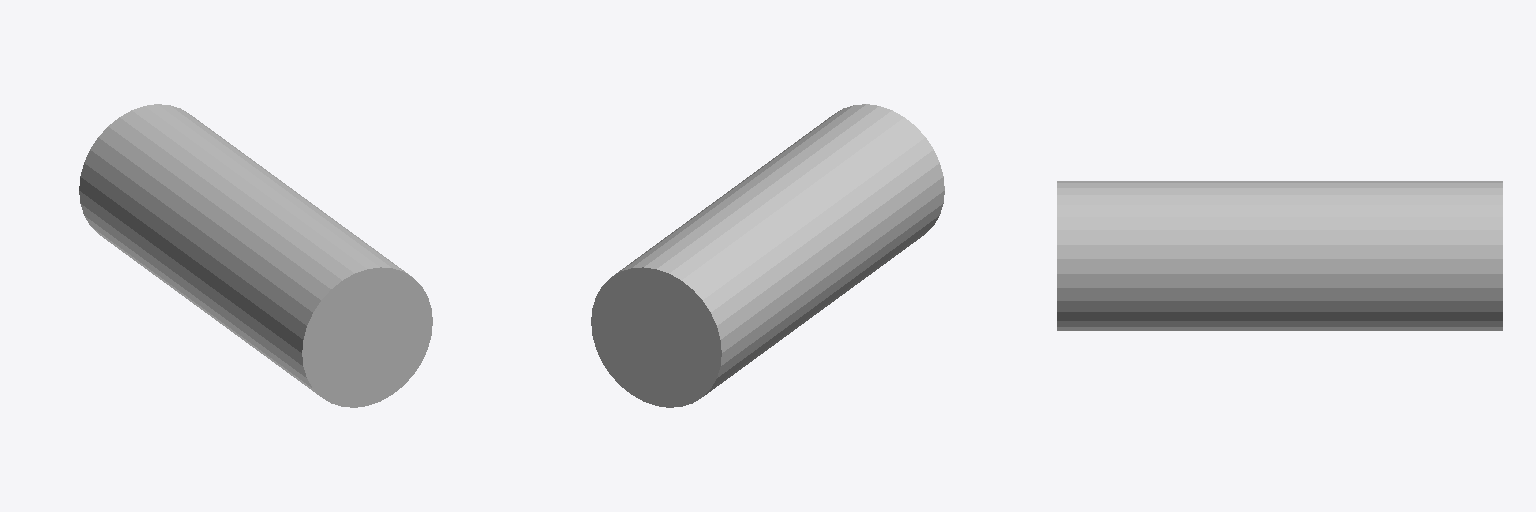
3 views of the same model, side by side, from view 1: azimuth 30°, elevation 25°; view 2: azimuth 150°, elevation 25°; view 3: azimuth 270°, elevation 25° (orthographic).
Visible parts, largest first — view 1: FS3_Cylinder.037; view 2: FS3_Cylinder.037; view 3: FS3_Cylinder.037.
Boxes of the visible parts, x1,y1,x2,y2 form: FS3_Cylinder.037: [79, 104, 432, 407]; FS3_Cylinder.037: [591, 104, 944, 407]; FS3_Cylinder.037: [1057, 181, 1502, 330].
Size of the model in its own units: 0.2473 by 0.2473 by 0.7307.